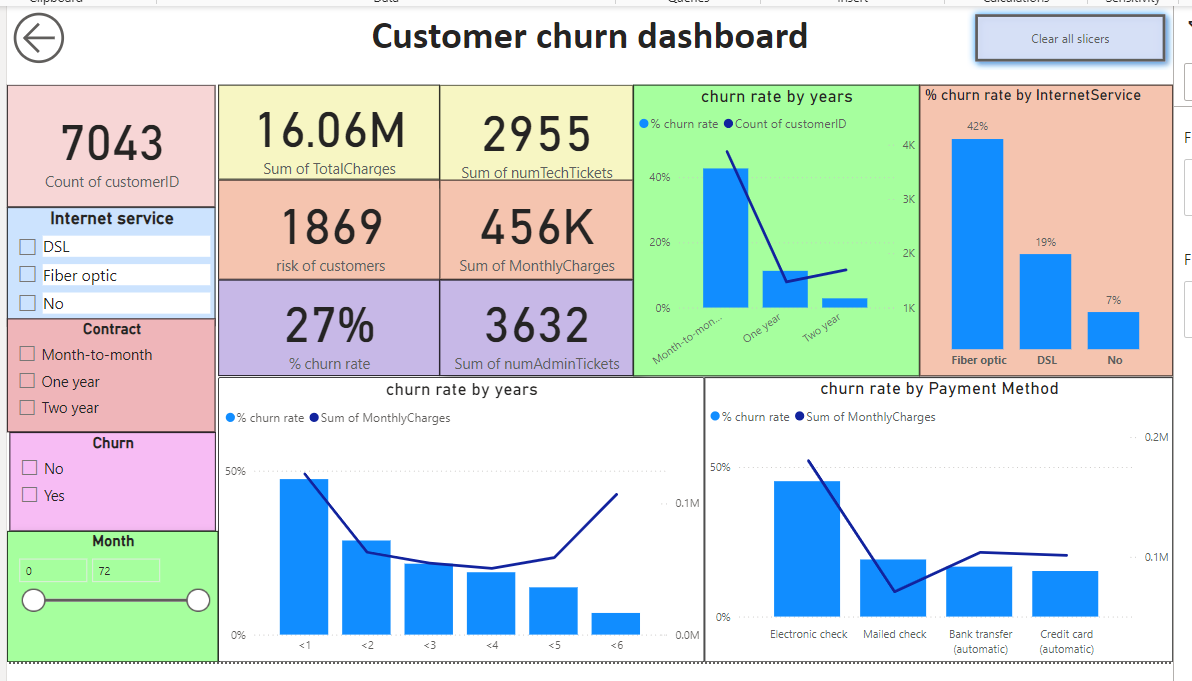

Layout of this report page (visuals, bound fields, positions):
{"tool":"powerbi","page":{"name":"Churn analysis","canvas":[1280,720],"ordinal":2},"visuals":[{"type":"slicer","title":"Internet service","fields":{"Values":["01 Churn-Dataset.InternetService"]},"box":[0,220.9,229.2,130.4],"z":0},{"type":"card","fields":{"Values":["Count(01 Churn-Dataset.customerID)"]},"box":[231.9,190.7,245.6,109.8],"z":1000},{"type":"slicer","title":"Churn","fields":{"Values":["01 Churn-Dataset.Churn"]},"box":[2.7,467.9,226.4,108.4],"z":2000},{"type":"slicer","title":"Contract","fields":{"Values":["01 Churn-Dataset.Contract"]},"box":[0,343.1,229.2,124.9],"z":3000},{"type":"slicer","title":"Month","fields":{"Values":["01 Churn-Dataset.tenure"]},"box":[0,576.3,231.9,144.1],"z":4000},{"type":"card","fields":{"Values":["CountNonNull(01 Churn-Dataset.customerID)"]},"box":[0,86.4,229.2,134.5],"z":5000},{"type":"card","fields":{"Values":["Sum(01 Churn-Dataset.numTechTickets)"]},"box":[474.8,86.4,212.7,113.9],"z":6000},{"type":"card","fields":{"Values":["Sum(01 Churn-Dataset.numAdminTickets)"]},"box":[474.8,300.5,212.7,105.7],"z":7000},{"type":"card","fields":{"Values":["Sum(01 Churn-Dataset.MonthlyCharges)"]},"box":[474.8,190.7,212.7,109.8],"z":8000},{"type":"card","fields":{"Values":["Sum(01 Churn-Dataset.TotalCharges)"]},"box":[231.9,86.4,242.9,104.3],"z":9000},{"type":"card","fields":{"Values":["01 Churn-Dataset.% churn rate"]},"box":[231.9,300.5,242.9,105.7],"z":10000},{"type":"lineStackedColumnComboChart","title":"churn rate by Payment Method","fields":{"Y":["01 Churn-Dataset.% churn rate"],"Category":["01 Churn-Dataset.PaymentMethod"],"Y2":["Sum(01 Churn-Dataset.MonthlyCharges)"]},"box":[765.7,407.5,514.6,312.9],"z":11000},{"type":"lineStackedColumnComboChart","title":"churn rate by years","fields":{"Y":["01 Churn-Dataset.% churn rate"],"Y2":["Sum(01 Churn-Dataset.MonthlyCharges)"],"Category":["01 Churn-Dataset.Tenure in years"]},"box":[231.9,407.5,533.8,312.9],"z":12000},{"type":"textbox","box":[0,0,1280,86.8],"z":13000},{"type":"lineStackedColumnComboChart","title":"churn rate by years","fields":{"Y":["01 Churn-Dataset.% churn rate"],"Category":["01 Churn-Dataset.Contract"],"Y2":["CountNonNull(01 Churn-Dataset.customerID)"]},"box":[687.5,86.4,314.2,319.7],"z":14000},{"type":"columnChart","fields":{"Category":["01 Churn-Dataset.InternetService"],"Y":["01 Churn-Dataset.% churn rate"]},"box":[1001.7,86.4,278.6,319.7],"z":15000},{"type":"actionButton","box":[0,0,98.9,70],"z":16000},{"type":"actionButton","box":[1053.2,0,226.8,70],"z":17000}]}

Visuals, with their boxes on the page's 1280x720 design canvas (x1, y1, x2, y2). These are canvas units, not pixel positions in the 1192x681 screenshot, which may show the page scaled, cropped or inside an application window:
"Internet service" slicer: {"left": 0, "top": 221, "right": 229, "bottom": 351}
card - Count(01 Churn-Dataset.customerID): {"left": 232, "top": 191, "right": 478, "bottom": 300}
"Churn" slicer: {"left": 3, "top": 468, "right": 229, "bottom": 576}
"Contract" slicer: {"left": 0, "top": 343, "right": 229, "bottom": 468}
"Month" slicer: {"left": 0, "top": 576, "right": 232, "bottom": 720}
card - CountNonNull(01 Churn-Dataset.customerID): {"left": 0, "top": 86, "right": 229, "bottom": 221}
card - Sum(01 Churn-Dataset.numTechTickets): {"left": 475, "top": 86, "right": 688, "bottom": 200}
card - Sum(01 Churn-Dataset.numAdminTickets): {"left": 475, "top": 300, "right": 688, "bottom": 406}
card - Sum(01 Churn-Dataset.MonthlyCharges): {"left": 475, "top": 191, "right": 688, "bottom": 300}
card - Sum(01 Churn-Dataset.TotalCharges): {"left": 232, "top": 86, "right": 475, "bottom": 191}
card - 01 Churn-Dataset.% churn rate: {"left": 232, "top": 300, "right": 475, "bottom": 406}
"churn rate by Payment Method" lineStackedColumnComboChart: {"left": 766, "top": 408, "right": 1280, "bottom": 720}
"churn rate by years" lineStackedColumnComboChart: {"left": 232, "top": 408, "right": 766, "bottom": 720}
textbox: {"left": 0, "top": 0, "right": 1280, "bottom": 87}
"churn rate by years" lineStackedColumnComboChart: {"left": 688, "top": 86, "right": 1002, "bottom": 406}
columnChart - 01 Churn-Dataset.InternetService x 01 Churn-Dataset.% churn rate: {"left": 1002, "top": 86, "right": 1280, "bottom": 406}
actionButton: {"left": 0, "top": 0, "right": 99, "bottom": 70}
actionButton: {"left": 1053, "top": 0, "right": 1280, "bottom": 70}
